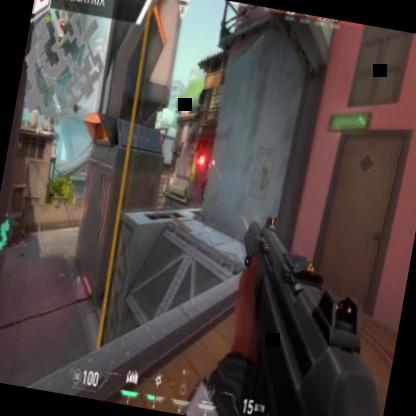enemy: (196, 151, 219, 207)
enemy_head: (206, 156, 212, 168)
